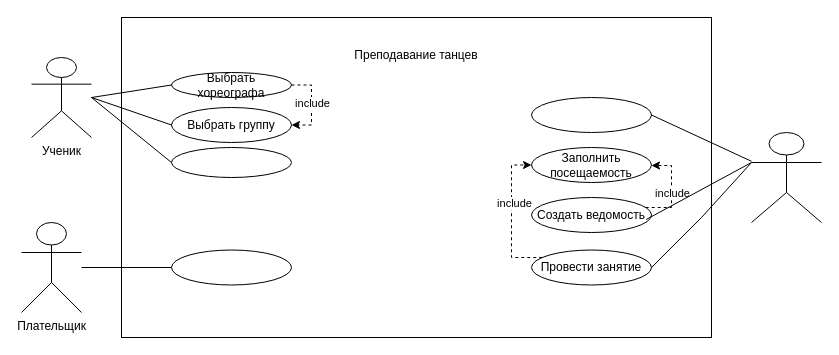
Image size: 839x355. Some labels were removed from this diagram. The shapes that lost their labels are listed below. From the top down, each one's box as (x1, y1, x2, y2) in pixels, then its label:
(530, 96, 652, 132): Создать расписание
(170, 146, 292, 178): Посетить занятие
(750, 132, 822, 222): Хореограф
(170, 249, 292, 285): Оплатить занятие
